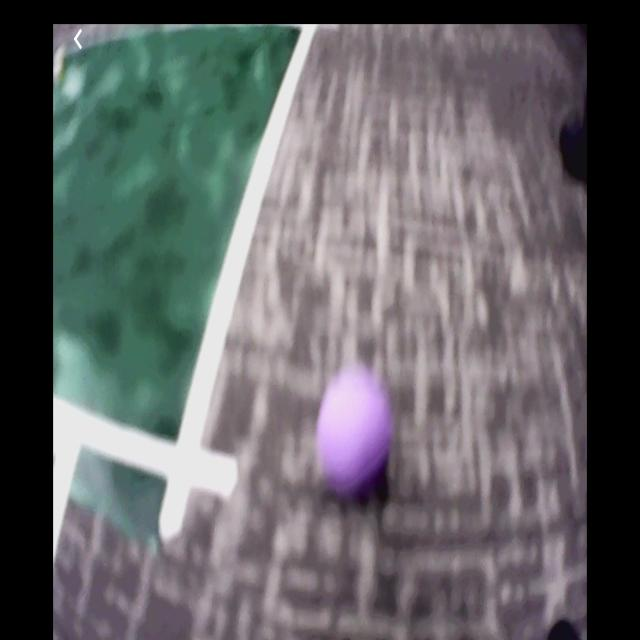ball: (320, 371, 392, 492)
